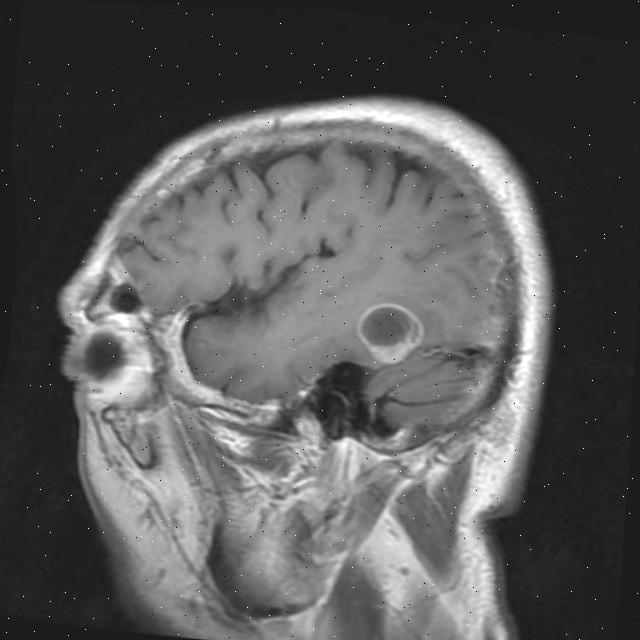Glioma: (351, 298, 427, 367)
